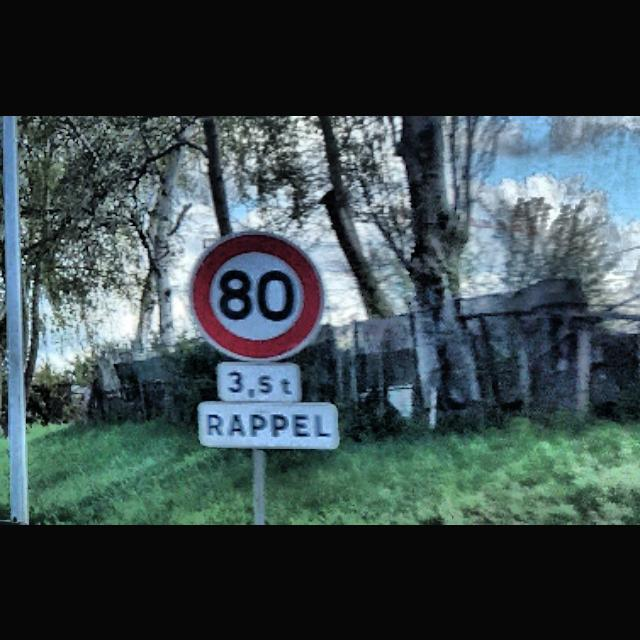speed_80: (186, 226, 326, 360)
